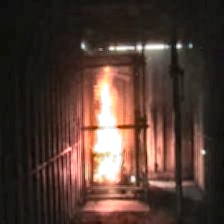fire: (87, 74, 124, 179)
